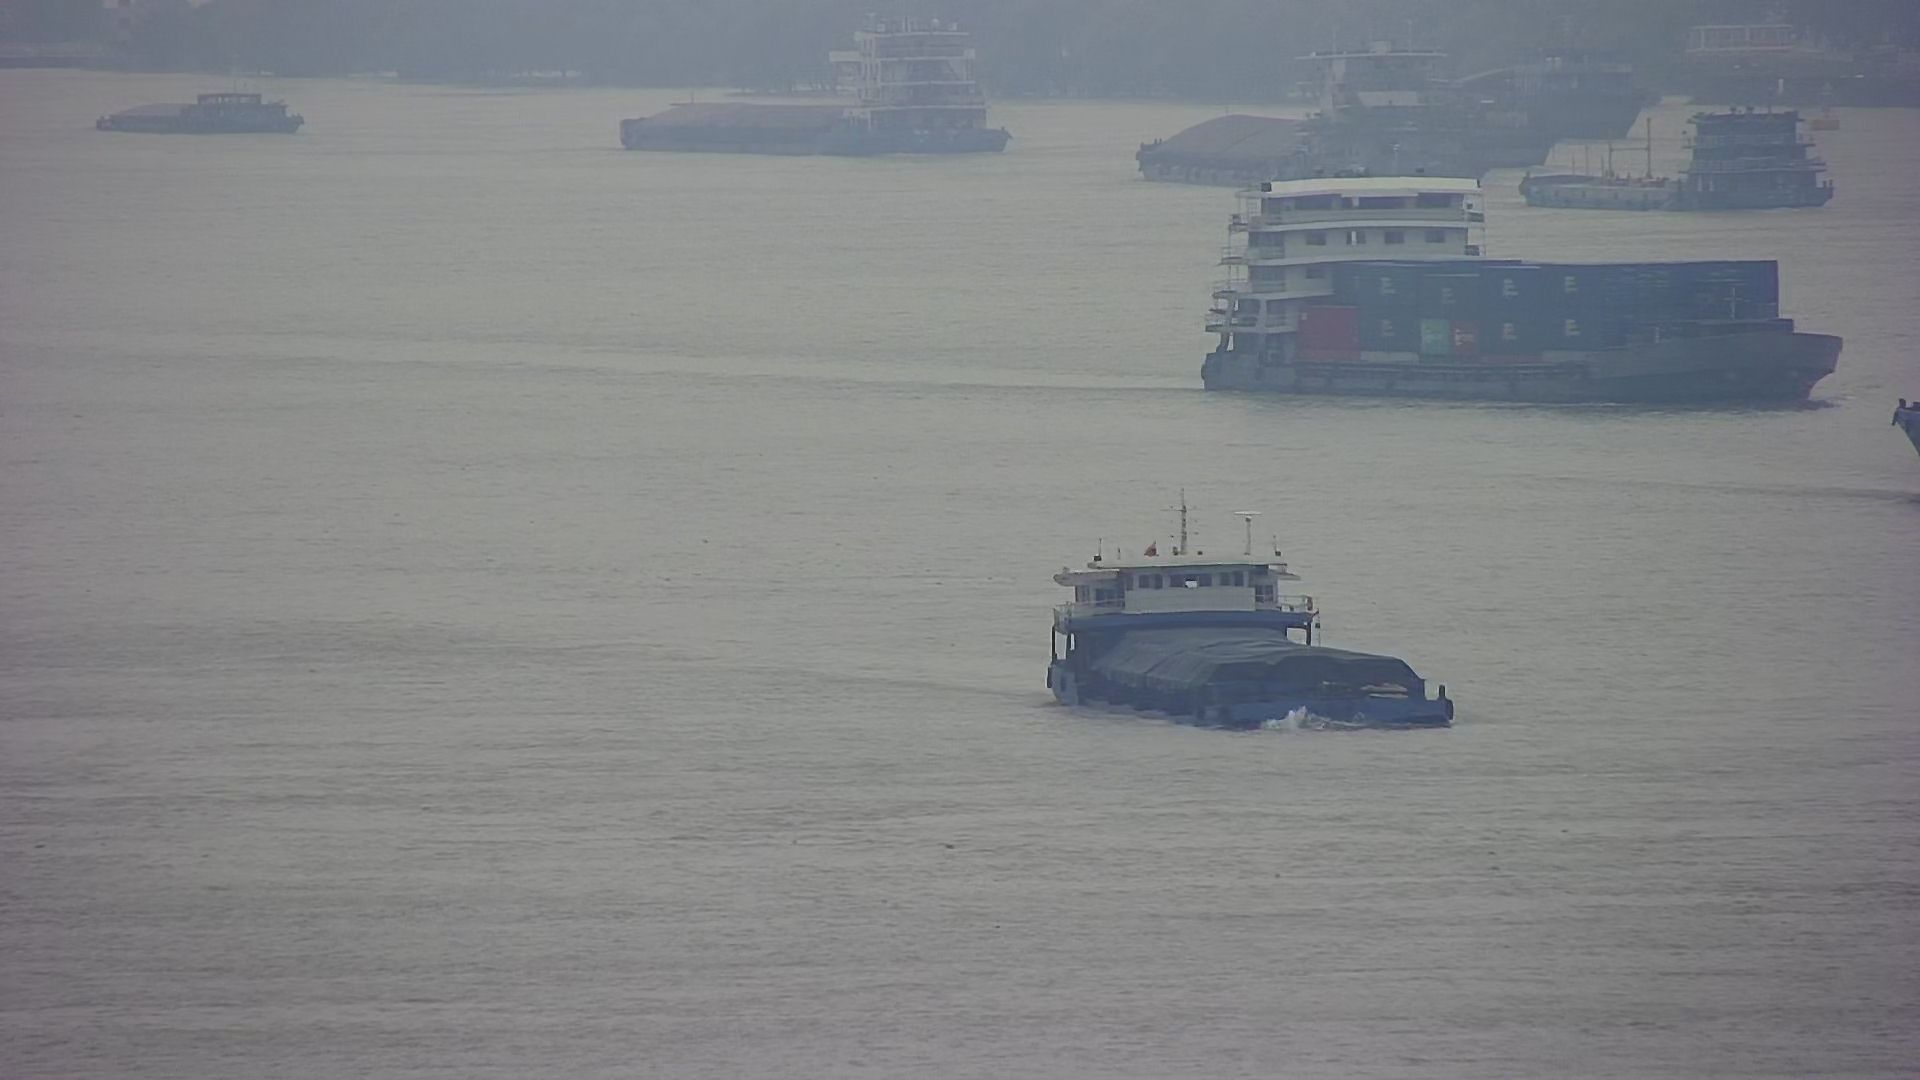ship: (1201, 164, 1842, 411), (1039, 504, 1457, 735), (1137, 37, 1531, 187), (621, 15, 1014, 154), (1527, 98, 1840, 211), (94, 90, 305, 133)
